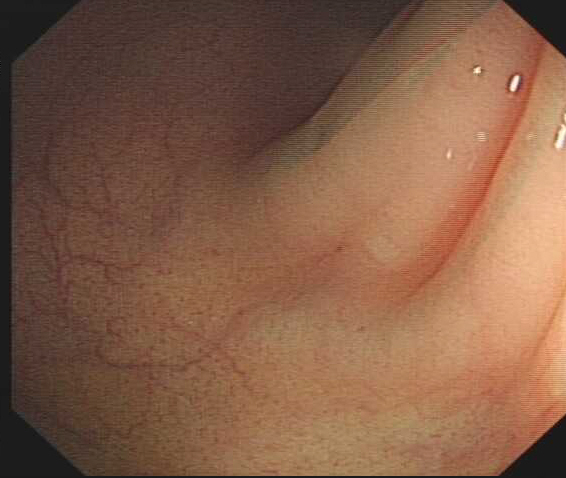others: (361, 229, 402, 271)
